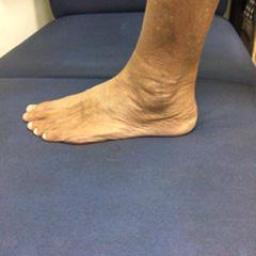Lateral View -Left Foot-: (15, 34, 215, 148)
